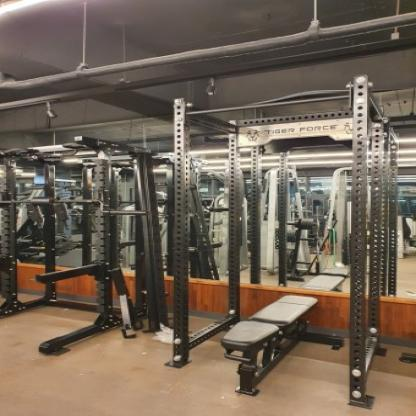smith machine: (173, 75, 389, 409), (2, 135, 168, 358)
